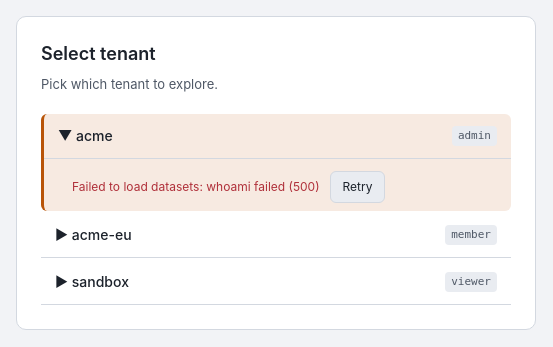
Scenario: SelectTenant › shows an error with a retry control when the datasets query fails, not an empty list
Expected: the text "Failed to load datasets: whoami failed (500)" is shown, [72, 178, 320, 196]
Expected: the text "production" is not shown
What coordinates should you click on to do the following:
click the button "Retry"
I would click on:
 (357, 187)
Its box is [330, 171, 385, 203].
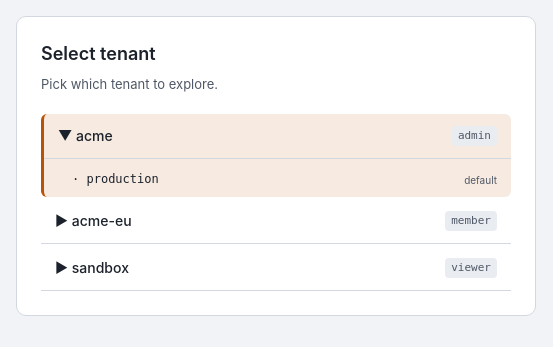
Expected: the text "· production" is shown, [72, 171, 159, 189]
Expected: the text "Failed to load datasets" is gone
